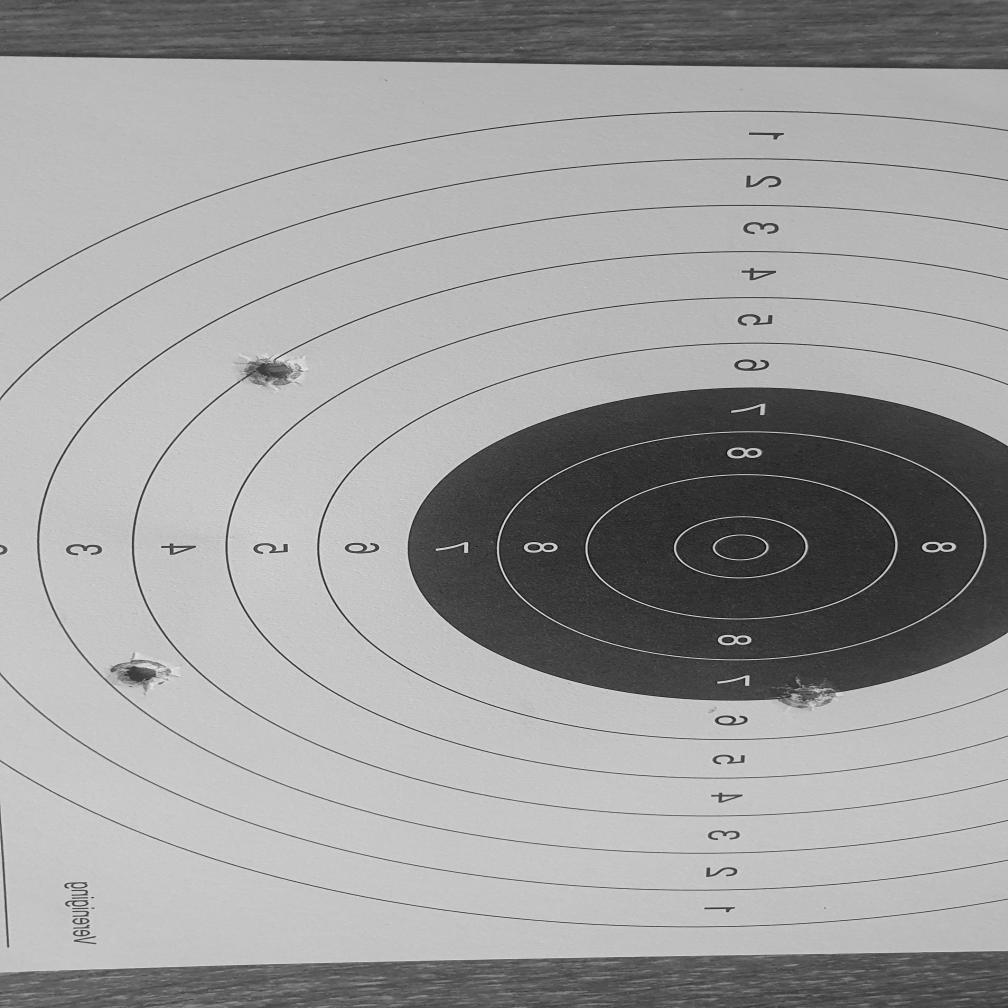3: (103, 650, 180, 696)
4: (238, 354, 313, 390)
7: (774, 672, 843, 718)
Target: (5, 113, 1008, 928)
black_contour: (410, 386, 1008, 700)
